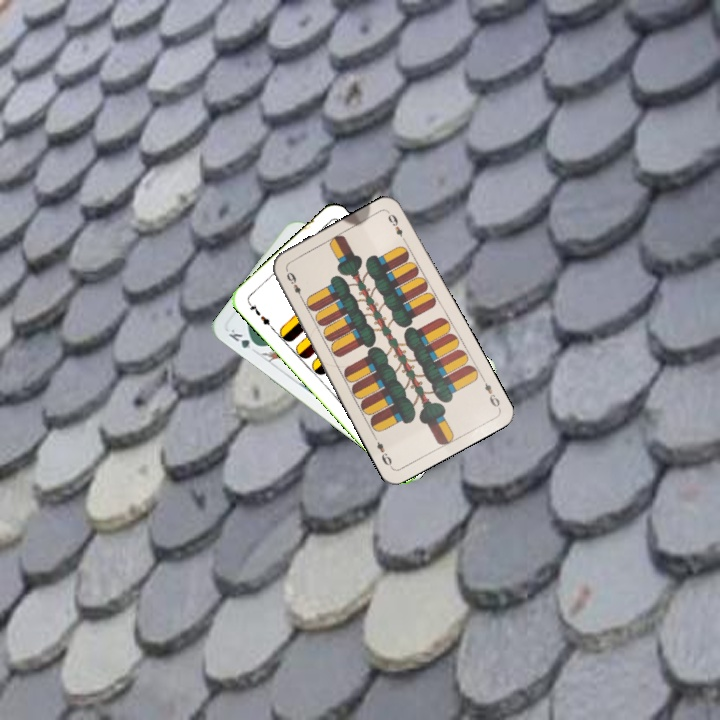E7: (244, 298, 275, 331)
E9: (478, 373, 503, 411), (282, 266, 306, 304)
GK: (224, 325, 262, 352)
